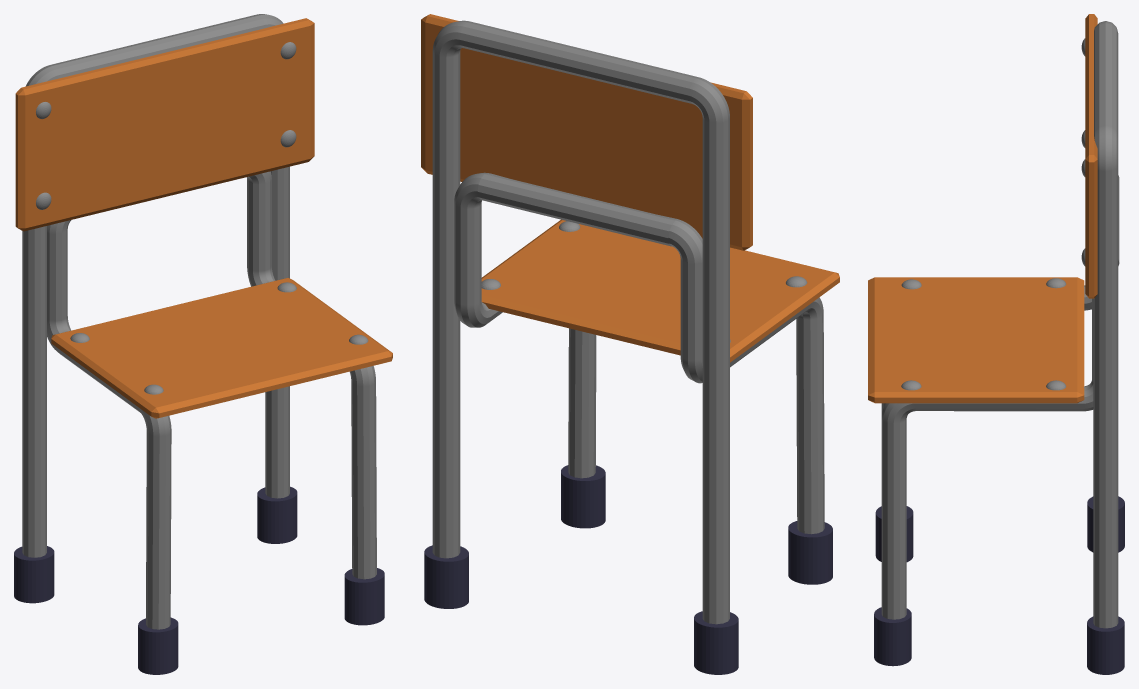
File: chair.fbx
The picture shows the model from 3 angles, left to right: view 1: azimuth 30°, elevation 25°; view 2: azimuth 150°, elevation 25°; view 3: azimuth 270°, elevation 25°; orthographic projection. The views are drawn at different scales.
Parts seen in each view (by area): view 1: Wood.001, Vert.002, Wood.002, Cylinder.010, Cylinder.007, Cylinder.009, Cylinder.008; view 2: Vert.002, Wood.001, Wood.002, Cylinder.008, Cylinder.007, Cylinder.009, Cylinder.010; view 3: Wood.002, Vert.002, Wood.001, Cylinder.009, Cylinder.010, Cylinder.008, Cylinder.007.
Boxes of the visible parts, left/top/right/bottom form: Wood.001: left=15, top=18, right=314, bottom=231; Vert.002: left=22, top=14, right=376, bottom=629; Wood.002: left=51, top=278, right=392, bottom=418; Cylinder.010: left=344, top=568, right=384, bottom=625; Cylinder.007: left=14, top=546, right=54, bottom=603; Cylinder.009: left=257, top=486, right=297, bottom=543; Cylinder.008: left=138, top=617, right=178, bottom=674; Vert.002: left=432, top=20, right=824, bottom=624; Wood.001: left=421, top=14, right=752, bottom=250; Wood.002: left=481, top=219, right=839, bottom=362; Cylinder.008: left=788, top=521, right=832, bottom=584; Cylinder.007: left=694, top=611, right=738, bottom=674; Cylinder.009: left=424, top=545, right=468, bottom=608; Cylinder.010: left=561, top=465, right=605, bottom=528; Wood.002: left=868, top=277, right=1084, bottom=403; Vert.002: left=881, top=21, right=1119, bottom=628; Wood.001: left=1085, top=14, right=1097, bottom=298; Cylinder.009: left=1087, top=616, right=1124, bottom=674; Cylinder.010: left=874, top=607, right=911, bottom=666; Cylinder.008: left=875, top=506, right=913, bottom=562; Cylinder.007: left=1087, top=496, right=1124, bottom=552.
Size of the model in its own units: 1401 by 2371 by 1039.
